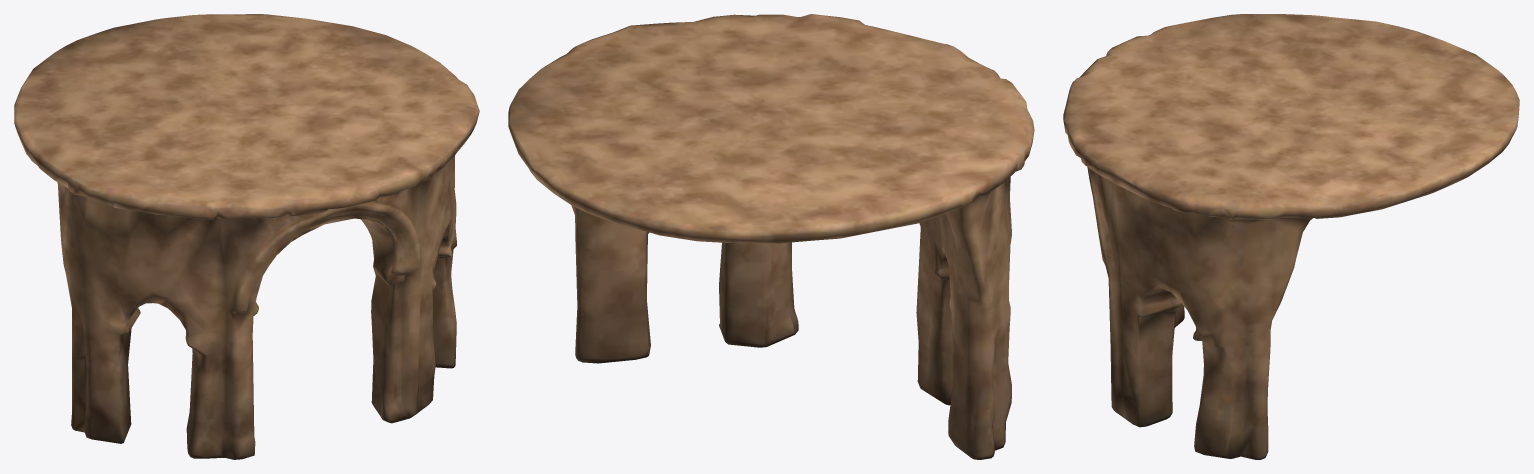
The model's file is ancient-sandstone-street-arch-v001.glb.
The picture shows the model from 3 angles, left to right: view 1: azimuth 30°, elevation 25°; view 2: azimuth 150°, elevation 25°; view 3: azimuth 270°, elevation 25°; orthographic projection. The views are drawn at different scales.
Visible parts, largest first — view 1: ancient-sandstone-street-arch; view 2: ancient-sandstone-street-arch; view 3: ancient-sandstone-street-arch.
Boxes of the visible parts, left/top/right/bottom form: ancient-sandstone-street-arch: left=14, top=14, right=479, bottom=459; ancient-sandstone-street-arch: left=508, top=14, right=1034, bottom=459; ancient-sandstone-street-arch: left=1063, top=14, right=1519, bottom=459.
Size of the model in its own units: 6.1 by 3.91 by 6.09.
Materials: 1 (1 with a texture image).
